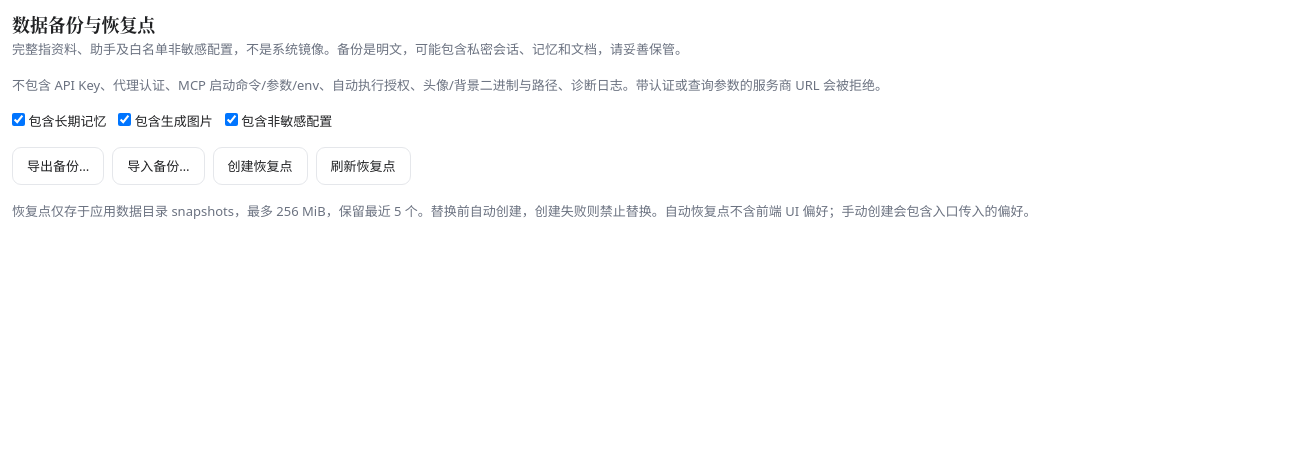
Test: BackupPanel › requires separate config consent and discloses partial config/UI failure
The image size is (1292, 451).
Click the button "导入备份…" at x=158, y=166, box x1=112 y1=147 x2=205 y2=185
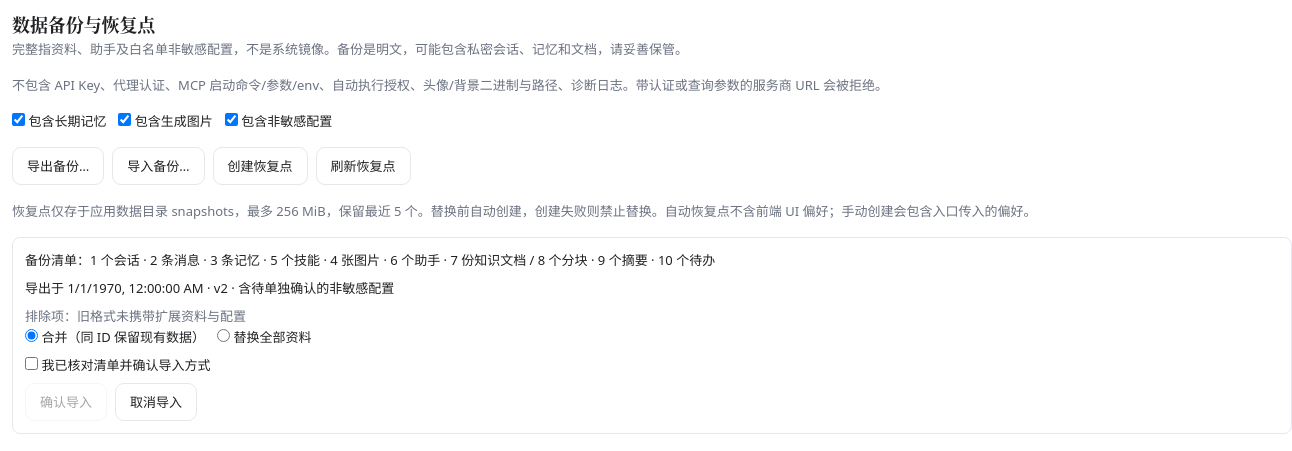
Now the button with aria-label "导入预览" is shown, box x1=12 y1=237 x2=1291 y2=434
Click the checkbox labelled "我已核对清单并确认导入方式" at x=32, y=364, box x1=25 y1=357 x2=38 y2=370
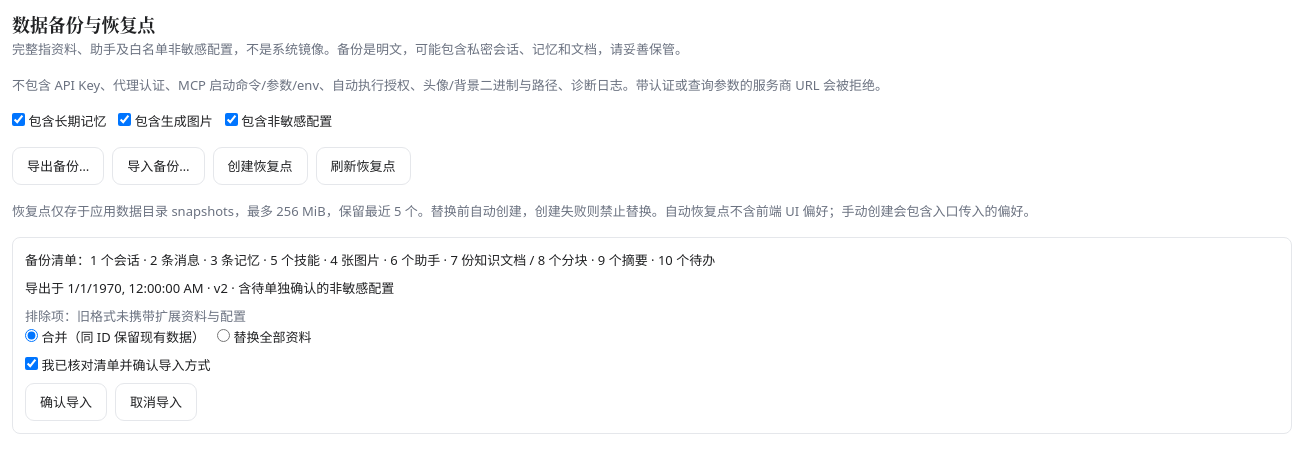
Click the button "确认导入" at x=66, y=402, box x1=25 y1=383 x2=107 y2=421
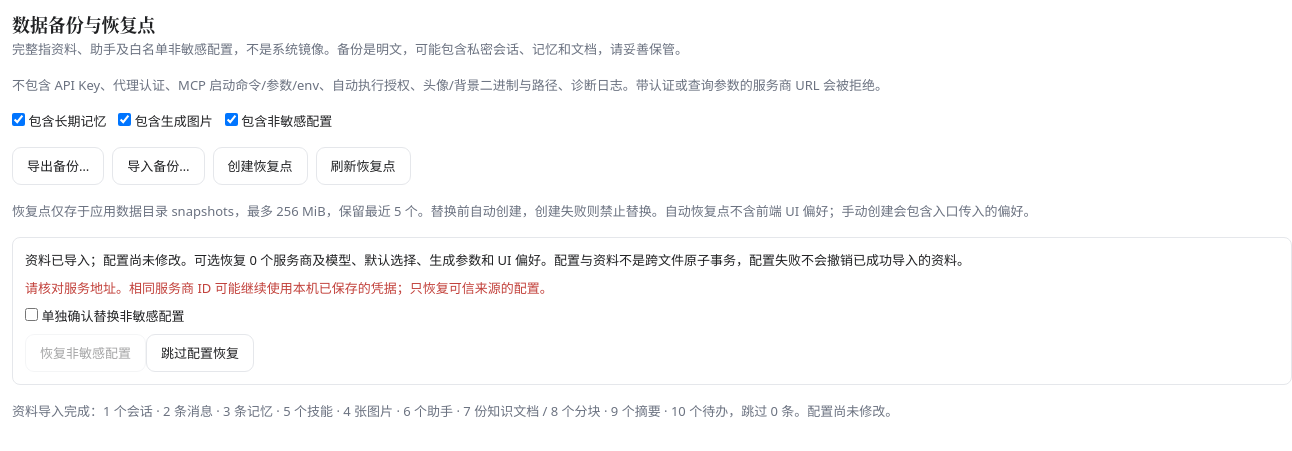
Now the button with aria-label "配置恢复确认" is shown, box x1=12 y1=237 x2=1291 y2=385
Now the button "恢复非敏感配置" is disabled, box x1=25 y1=334 x2=146 y2=372
Click the checkbox labelled "单独确认替换非敏感配置" at x=32, y=315, box x1=25 y1=308 x2=38 y2=321
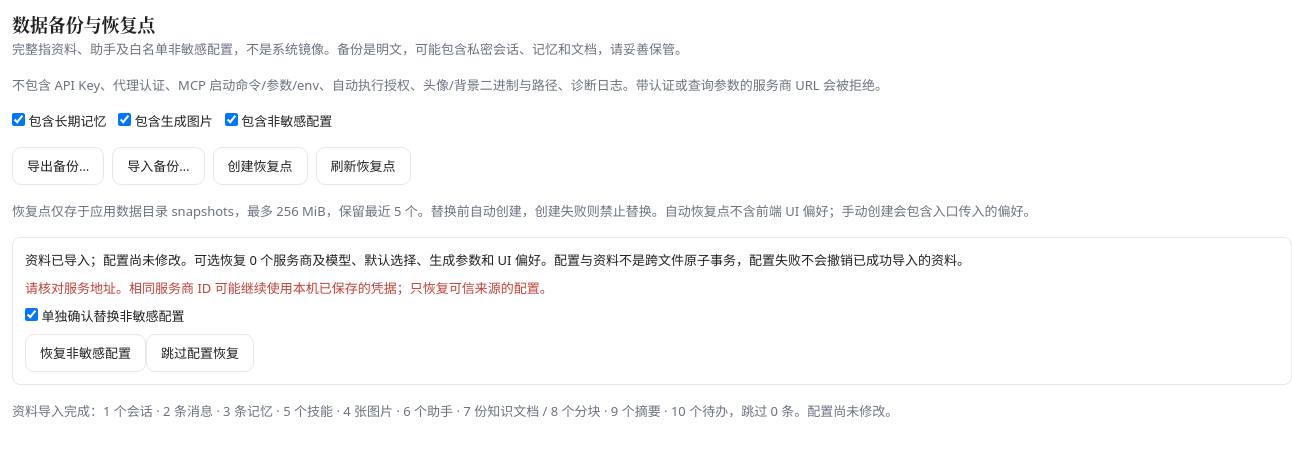
Click the button "恢复非敏感配置" at x=86, y=353, box x1=25 y1=334 x2=146 y2=372
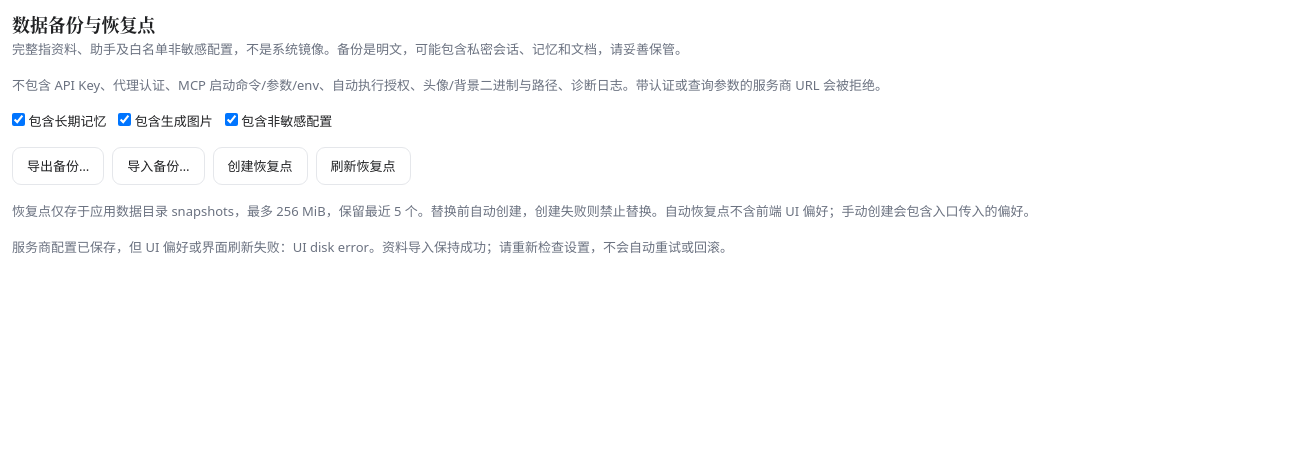
Now the text "服务商配置已保存，但 UI 偏好或界面刷新失败：UI disk error。资料导入保持成功；请重新检查设置，不会自动重试或回滚。" is shown, box x1=12 y1=238 x2=733 y2=256
